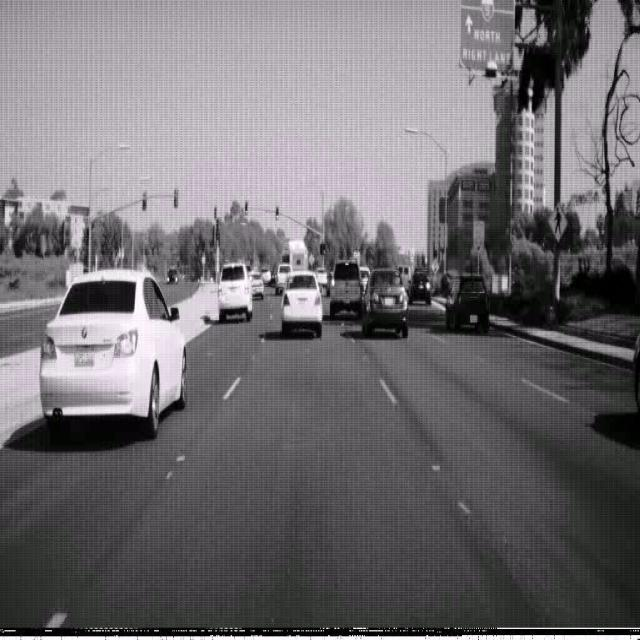pedestrianCrossing: (547, 200, 568, 241)
